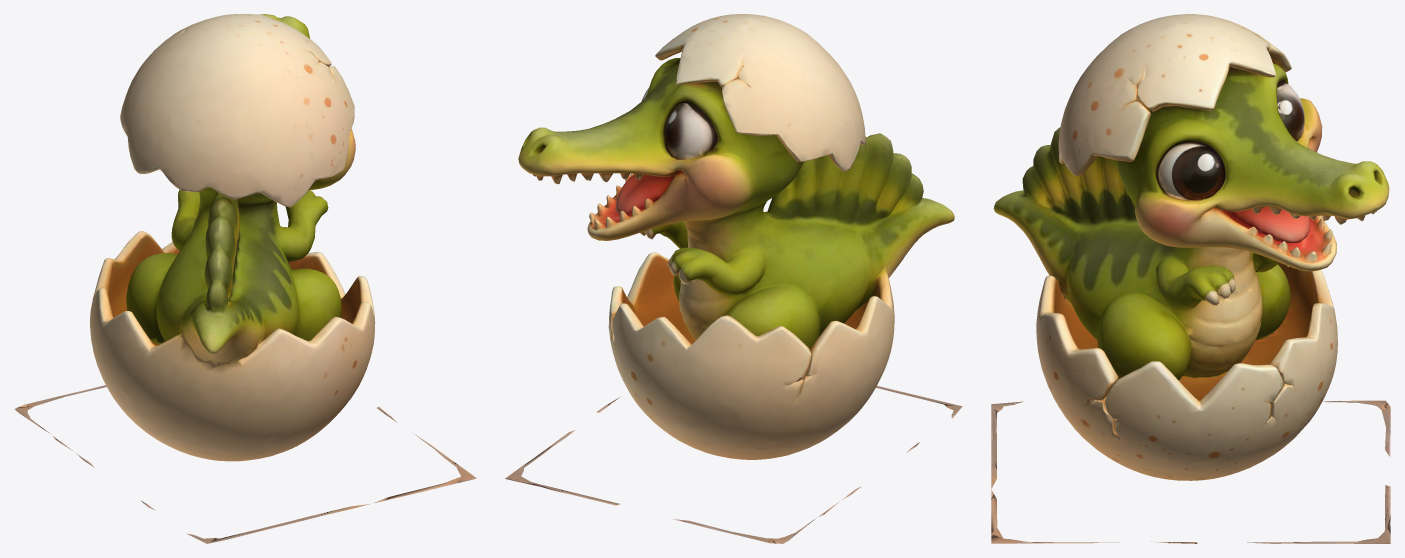
The model's file is baby_2.glb.
3 views of the same model, side by side, from view 1: azimuth 30°, elevation 25°; view 2: azimuth 150°, elevation 25°; view 3: azimuth 270°, elevation 25° (orthographic). The views are drawn at different scales.
Parts seen in each view (by area): view 1: tripo_node_61264441-7c44-48c9-a53b-32d18502ecbb; view 2: tripo_node_61264441-7c44-48c9-a53b-32d18502ecbb; view 3: tripo_node_61264441-7c44-48c9-a53b-32d18502ecbb.
Boxes of the visible parts, x1,y1,x2,y2 form: tripo_node_61264441-7c44-48c9-a53b-32d18502ecbb: (14, 14, 476, 543); tripo_node_61264441-7c44-48c9-a53b-32d18502ecbb: (505, 14, 962, 543); tripo_node_61264441-7c44-48c9-a53b-32d18502ecbb: (991, 14, 1390, 543).
Size of the model in its own units: 0.687 by 1 by 0.8111.
1 material, 1 textured.
